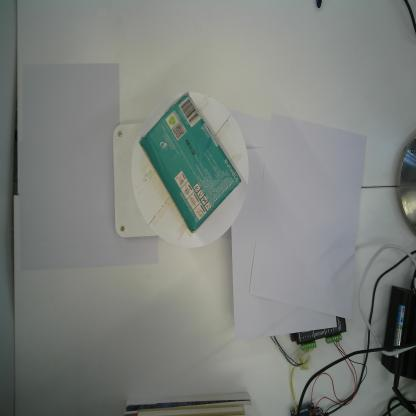Tissue: (137, 89, 243, 236)
